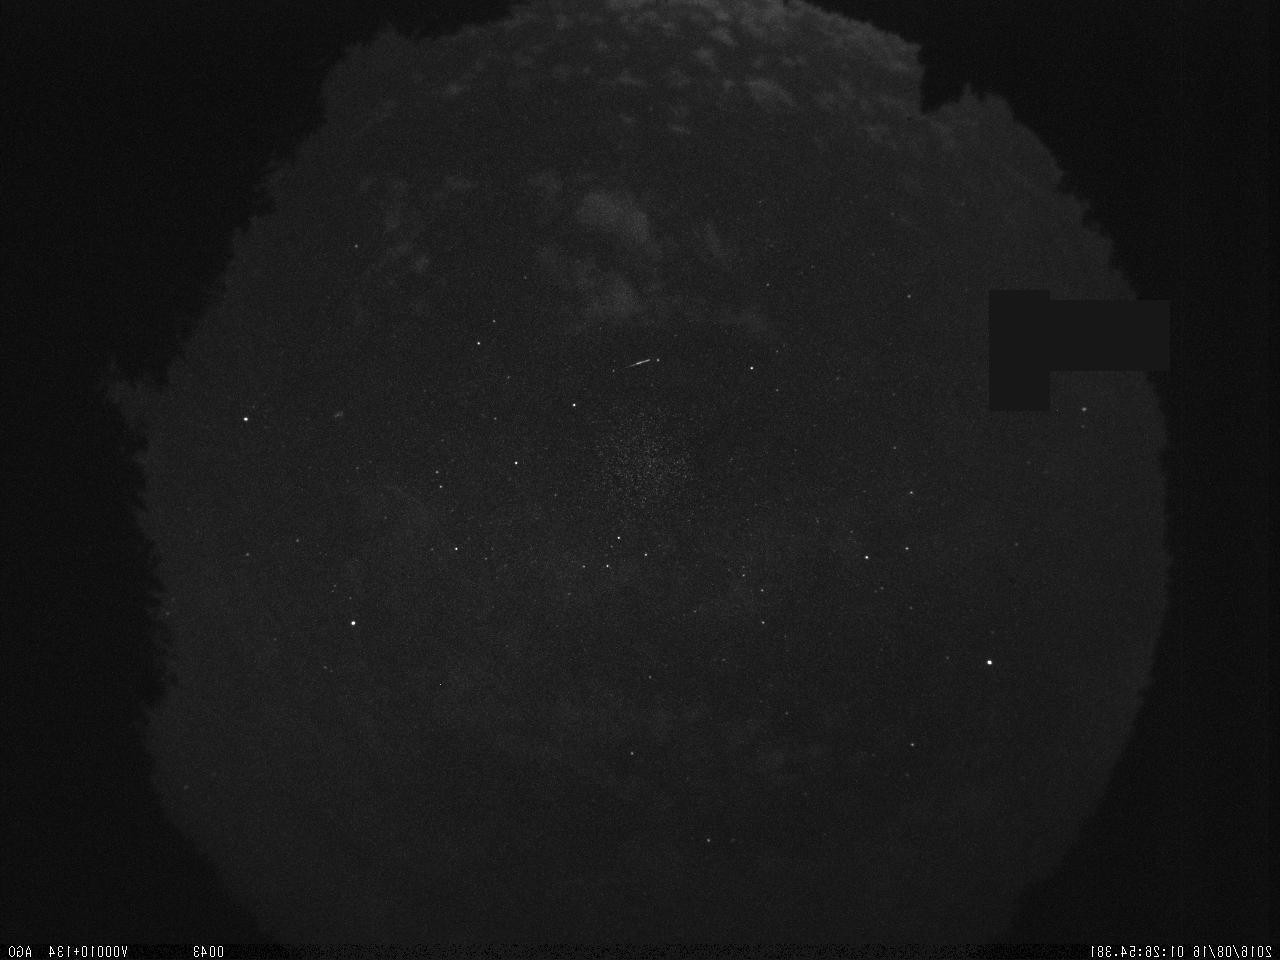meteor: (611, 342, 660, 386)
